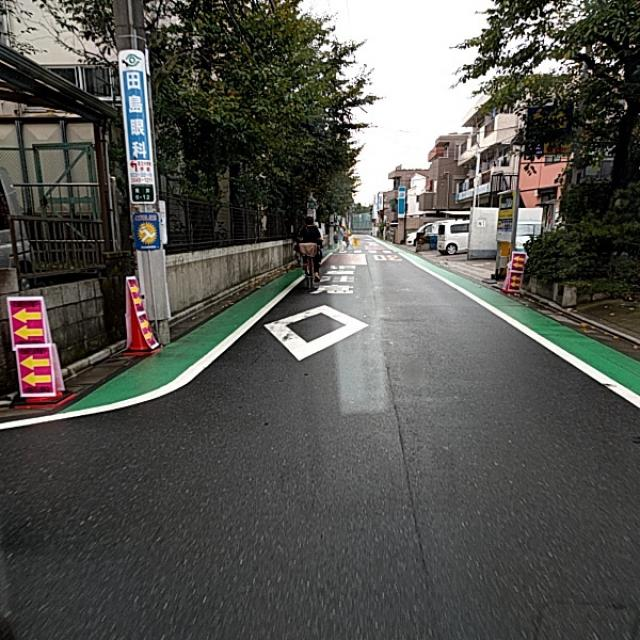pothole: (380, 455, 440, 543)
